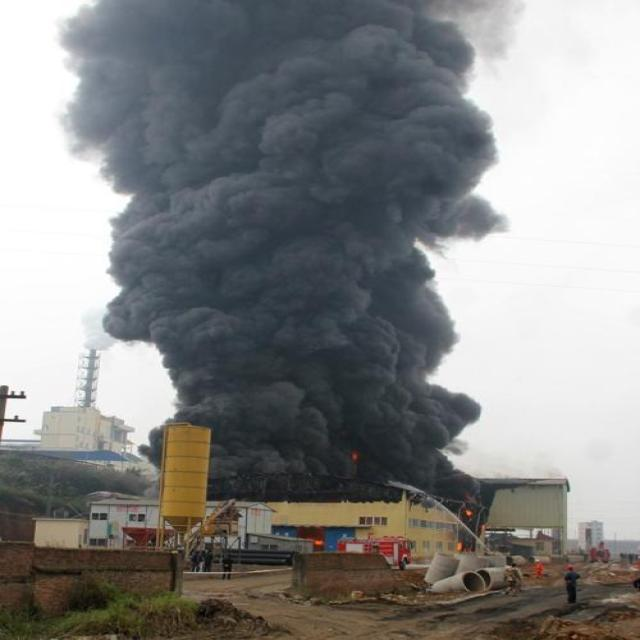fire: (308, 536, 324, 546), (453, 538, 466, 550), (461, 505, 472, 517)
smoke: (59, 0, 503, 496)
